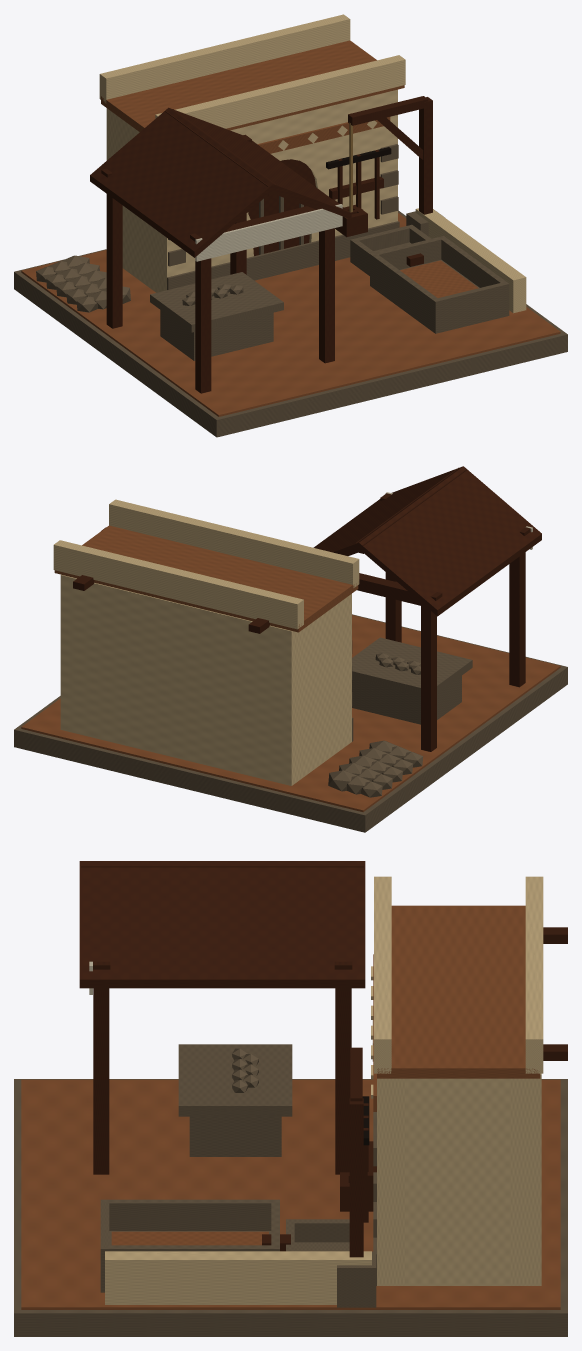
Rendered from Berber_Mining_Age4.fbx.
The picture shows the model from 3 angles, top to bottom: view 1: azimuth 30°, elevation 25°; view 2: azimuth 150°, elevation 25°; view 3: azimuth 270°, elevation 25°; orthographic projection. The views are drawn at different scales.
Parts seen in each view (by area): view 1: courtyard_floor, timber_shelter_roof, courtyard_foundation, store_front, store_roof, washing_trough, store_parapet.001, store_parapet, sorting_slab, timber_shelter_roof.001, store_plinth, owner_valance (+15 smaller); view 2: store_backwall, courtyard_floor, timber_shelter_roof, courtyard_foundation, store_roof, store_parapet.001, store_parapet, store_sidewall, sorting_slab, timber_shelter_roof.001, sorting_plinth, shelter_post.001 (+4 smaller); view 3: courtyard_floor, timber_shelter_roof.001, store_roof, store_sidewall.001, courtyard_foundation, washbank_earth_retainer, washing_trough, sorting_slab, store_backwall, store_front, sorting_plinth, store_parapet.001 (+8 smaller).
Boxes of the visible parts, <box> form: courtyard_floor: <box>21,213,560,416</box>; timber_shelter_roof: <box>90,107,273,257</box>; courtyard_foundation: <box>14,210,567,437</box>; store_front: <box>156,89,397,292</box>; store_roof: <box>101,40,404,131</box>; washing_trough: <box>370,236,509,333</box>; store_parapet.001: <box>99,14,350,103</box>; store_parapet: <box>155,55,405,128</box>; sorting_slab: <box>150,272,283,332</box>; timber_shelter_roof.001: <box>169,108,351,219</box>; store_plinth: <box>167,221,399,289</box>; owner_valance: <box>195,204,342,261</box>; store_backwall: <box>60,574,303,785</box>; courtyard_floor: <box>21,615,560,812</box>; timber_shelter_roof: <box>359,466,541,616</box>; courtyard_foundation: <box>14,614,567,832</box>; store_roof: <box>54,525,358,632</box>; store_parapet.001: <box>53,540,303,629</box>; store_parapet: <box>109,499,359,587</box>; store_sidewall: <box>303,601,341,777</box>; sorting_slab: <box>352,637,472,695</box>; timber_shelter_roof.001: <box>313,466,462,554</box>; sorting_plinth: <box>352,676,461,724</box>; shelter_post.001: <box>421,606,436,751</box>; courtyard_floor: <box>21,1079,560,1309</box>; timber_shelter_roof.001: <box>79,861,365,988</box>; store_roof: <box>377,905,540,1078</box>; store_sidewall.001: <box>406,1078,509,1285</box>; courtyard_foundation: <box>14,1079,567,1336</box>; washbank_earth_retainer: <box>105,1251,371,1304</box>; washing_trough: <box>100,1199,279,1292</box>; sorting_slab: <box>178,1044,292,1116</box>; store_backwall: <box>509,1073,541,1285</box>; store_front: <box>377,1078,406,1285</box>; sorting_plinth: <box>189,1116,281,1156</box>; store_parapet.001: <box>525,876,543,1073</box>.
Size of the model in its own units: 380 by 224 by 380.
Materials: 7 (7 with a texture image).
